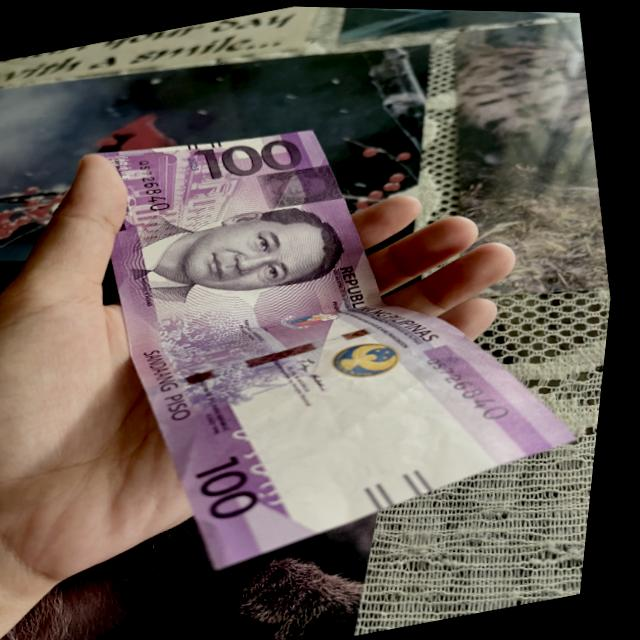concealed_value: (255, 156, 349, 212)
security_thread: (152, 309, 441, 395)
serial_number: (428, 350, 524, 419), (135, 150, 181, 214)
value: (194, 135, 308, 180)
watermark: (241, 346, 516, 516)
